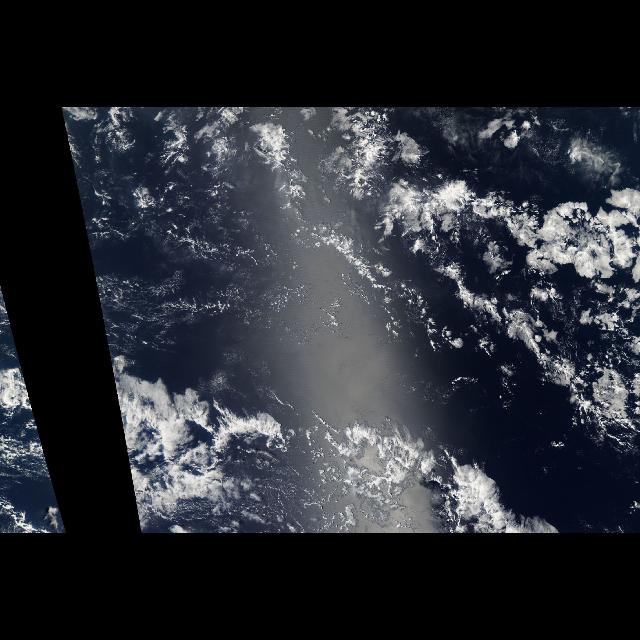Fish: (110, 368, 596, 526)
Flower: (339, 120, 639, 348)
Sugar: (80, 194, 398, 363)
